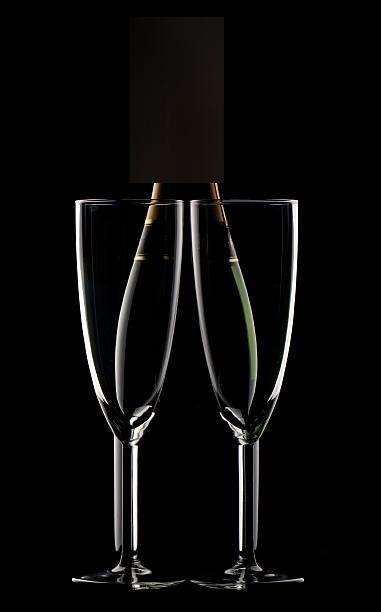glass-wine: (185, 195, 308, 589), (66, 194, 188, 590)
